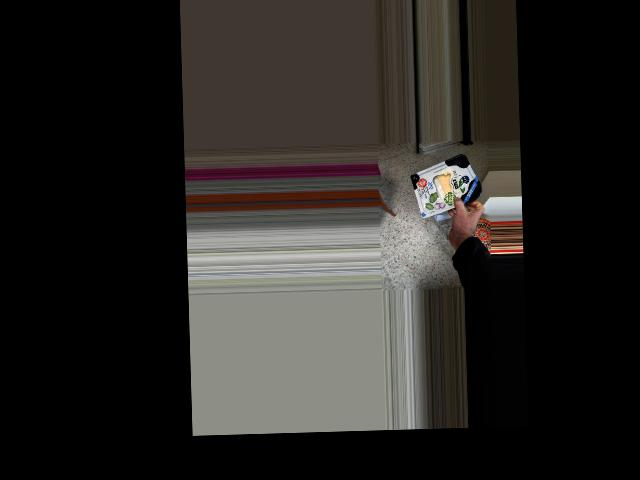cheese: (411, 163, 479, 212)
